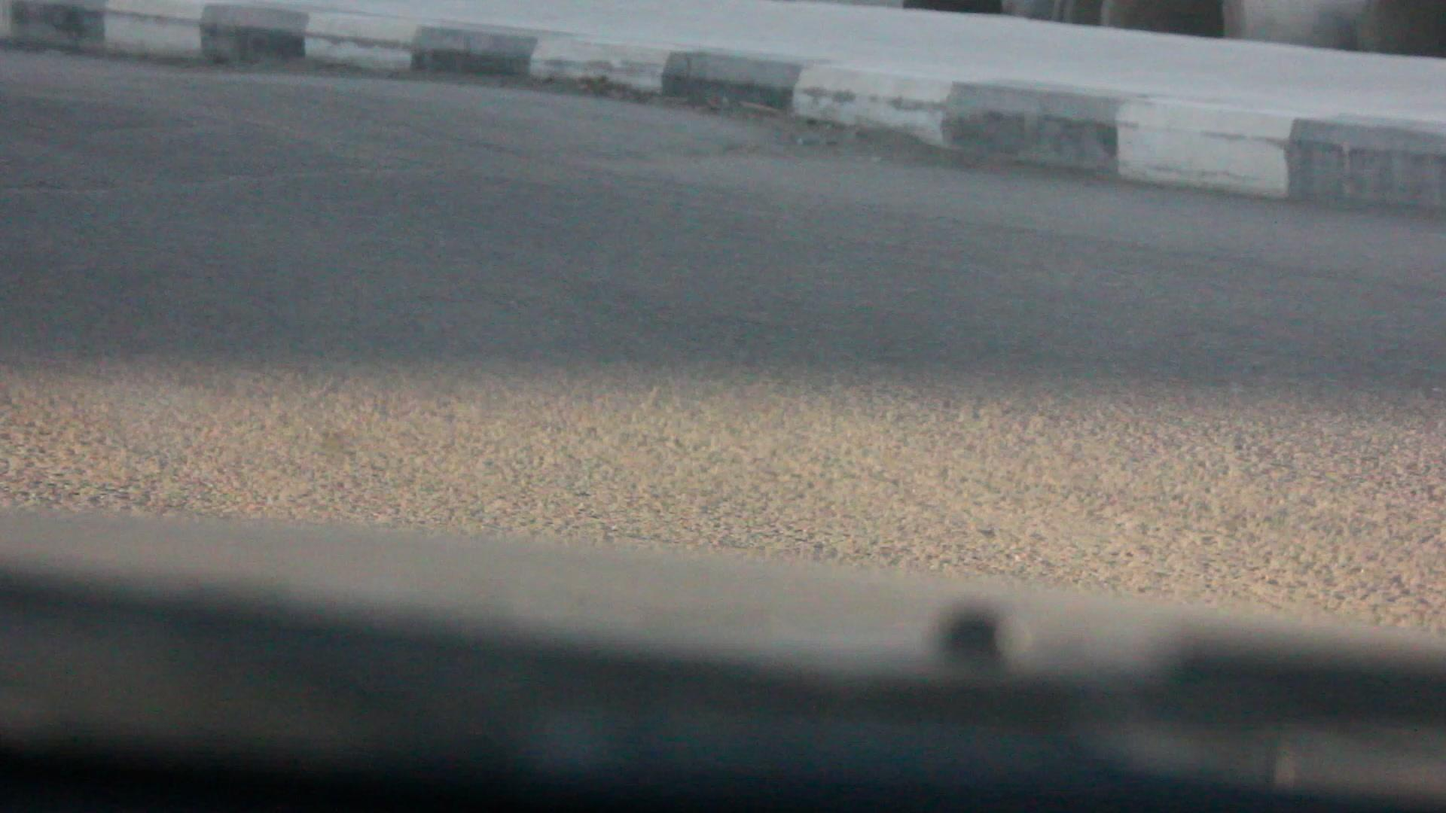Bump: (0, 67, 942, 201)
